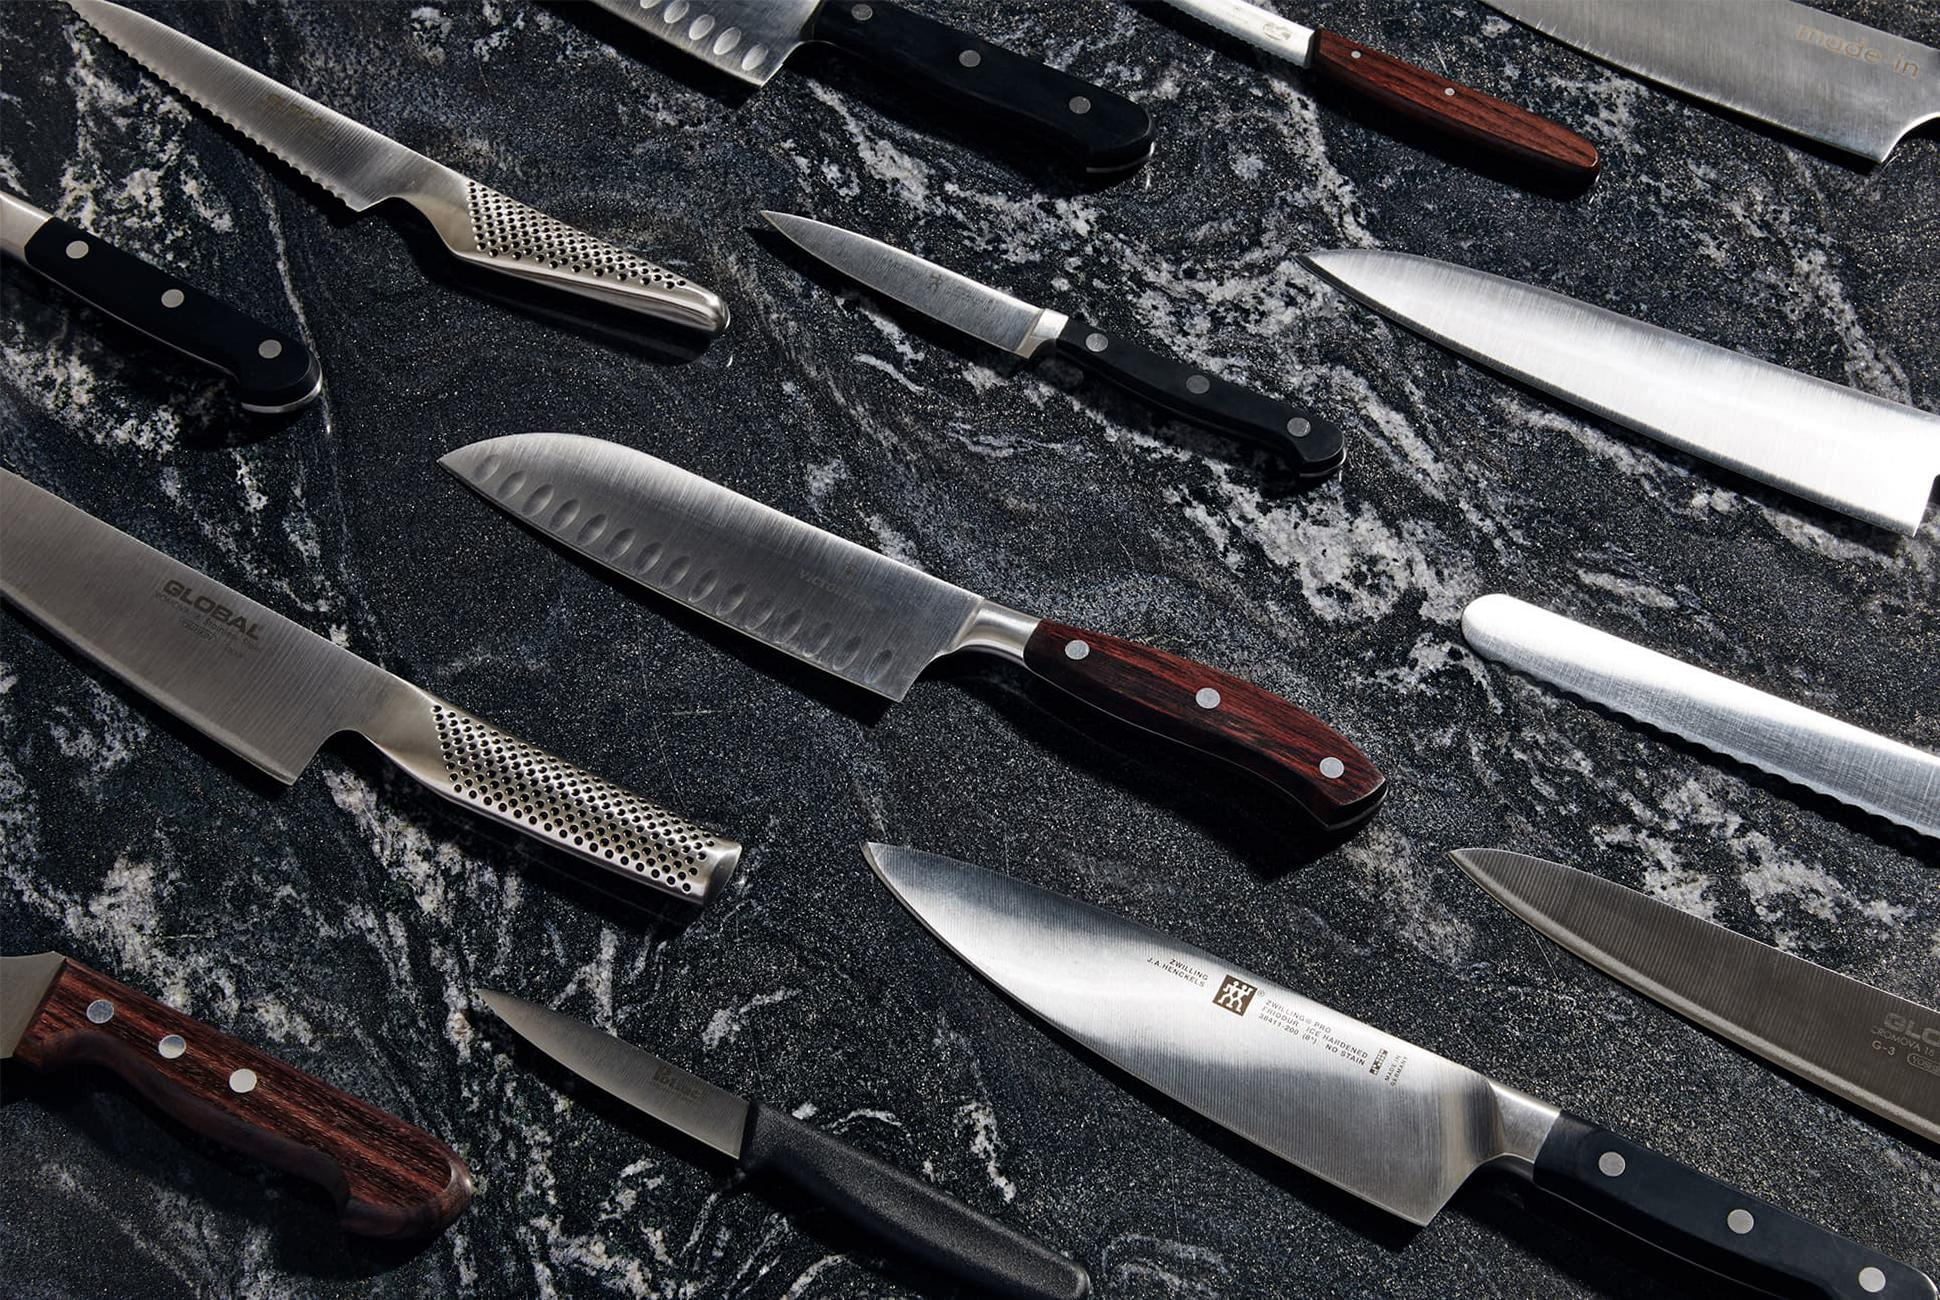knife: (432, 432, 1387, 824), (461, 987, 1093, 1300), (755, 207, 1345, 492)
